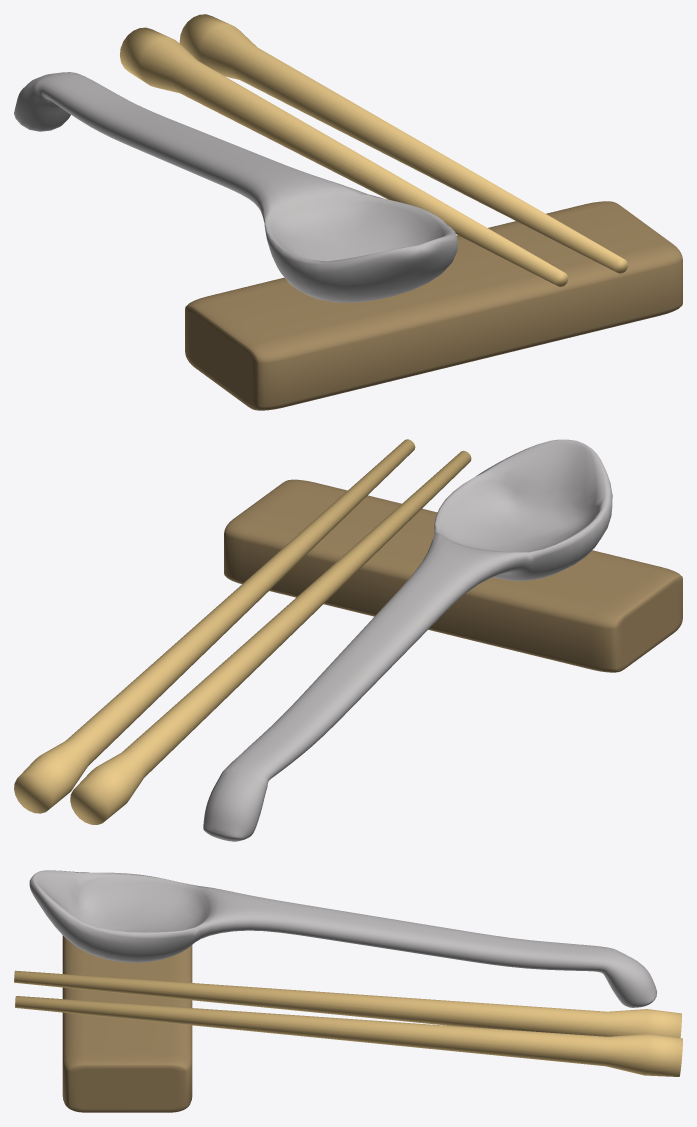
File: SM_Spoon_Chopsticks.fbx
3 renders of one model, top to bottom at view 1: azimuth 30°, elevation 25°; view 2: azimuth 150°, elevation 25°; view 3: azimuth 270°, elevation 25°, orthographic. The views are drawn at different scales.
Visible parts, largest first — view 1: Chopstick_Holder, Spoon, Chopstick.001, Chopstick; view 2: Spoon, Chopstick_Holder, Chopstick.001, Chopstick; view 3: Spoon, Chopstick_Holder, Chopstick.001, Chopstick.
Boxes of the visible parts, x1=… form: Chopstick_Holder: x1=185, y1=201, x2=682, y2=410; Spoon: x1=14, y1=72, x2=457, y2=302; Chopstick.001: x1=179, y1=14, x2=627, y2=273; Chopstick: x1=120, y1=27, x2=568, y2=286; Spoon: x1=203, y1=439, x2=612, y2=841; Chopstick_Holder: x1=224, y1=479, x2=682, y2=672; Chopstick.001: x1=14, y1=439, x2=415, y2=813; Chopstick: x1=70, y1=450, x2=471, y2=824; Spoon: x1=29, y1=870, x2=656, y2=1007; Chopstick_Holder: x1=62, y1=935, x2=192, y2=1112; Chopstick.001: x1=15, y1=996, x2=682, y2=1076; Chopstick: x1=14, y1=970, x2=681, y2=1037.
Bounding box in the file's own units: 611 × 215 × 1033.
